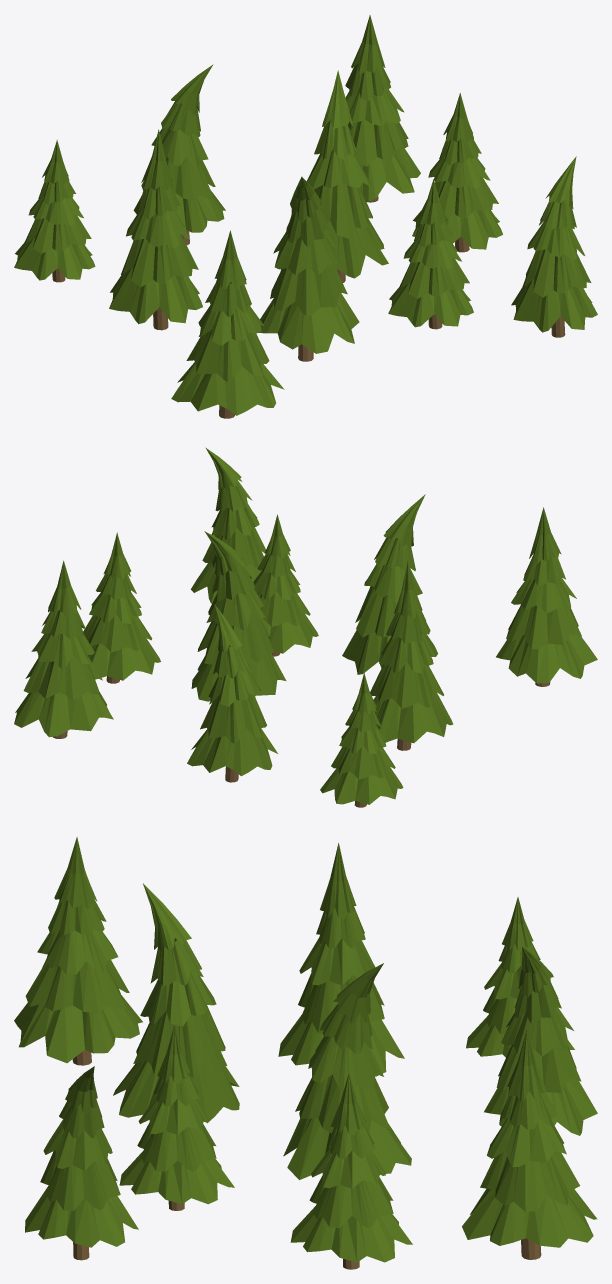
3 views of the same model, one above another, from view 1: azimuth 30°, elevation 25°; view 2: azimuth 150°, elevation 25°; view 3: azimuth 270°, elevation 25° (orthographic). The views are drawn at different scales.
Visible parts, largest first — view 1: Resource_PineTree_Group_1; view 2: Resource_PineTree_Group_1; view 3: Resource_PineTree_Group_1.
Part boxes in pixels (left/top/right/bottom): Resource_PineTree_Group_1: left=14, top=15, right=597, bottom=418; Resource_PineTree_Group_1: left=14, top=447, right=597, bottom=807; Resource_PineTree_Group_1: left=14, top=837, right=597, bottom=1269.
Bounding box in the file's own units: 178 × 78.82 × 173.
1 material, 1 textured.
